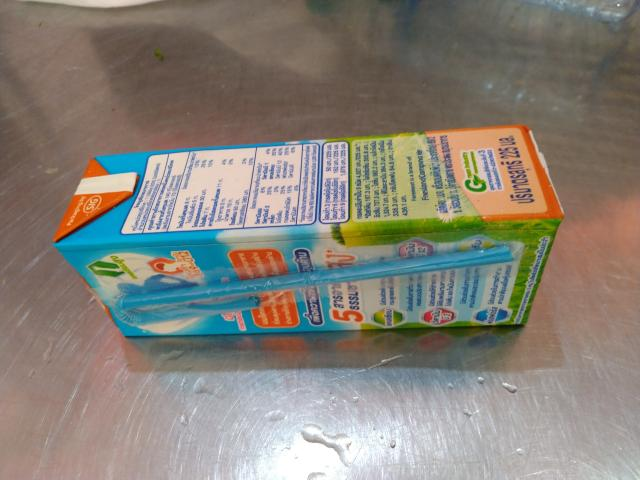drink_box: (45, 113, 585, 394)
